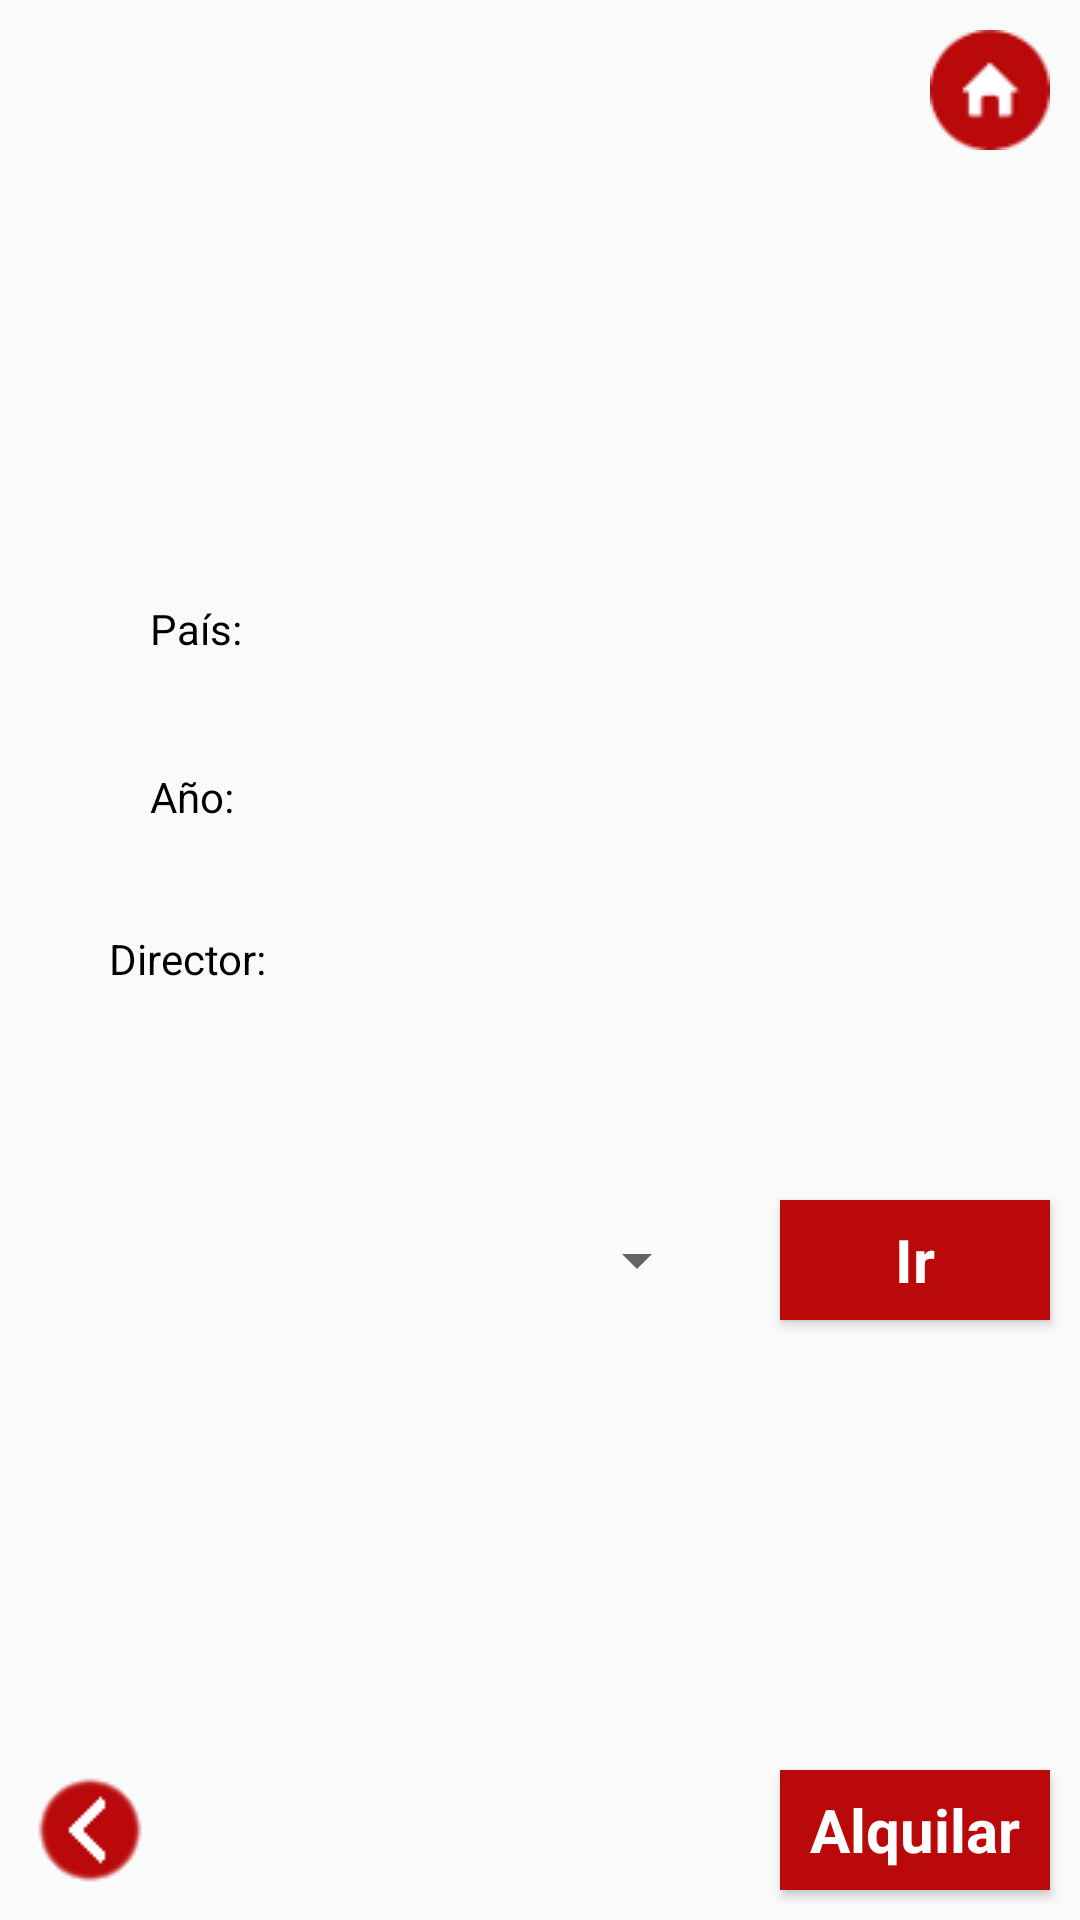

Icons on this 1080 x 1920 Android screen, each with its box as {"x1": x1, "y1": y1, "x2": x2, "y2": y2}:
Casa: {"x1": 930, "y1": 30, "x2": 1050, "y2": 150}
Volver: {"x1": 38, "y1": 1778, "x2": 142, "y2": 1882}
